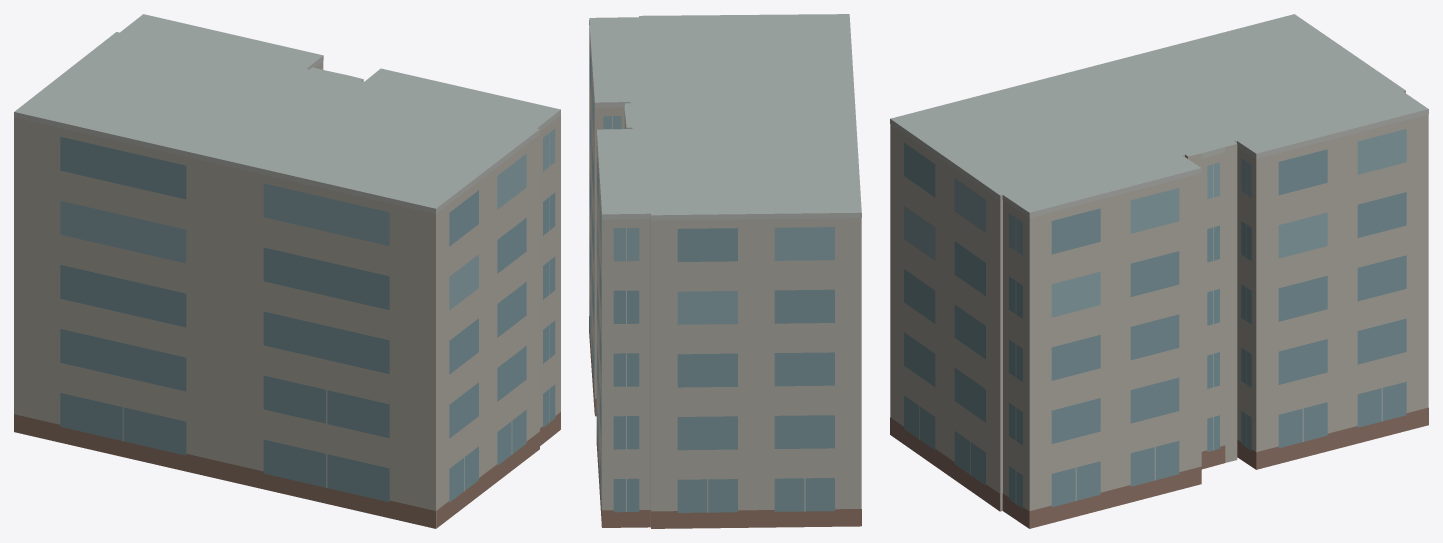
The model's file is survey-upis-32956446.glb.
3 renders of one model, left to right at view 1: azimuth 30°, elevation 25°; view 2: azimuth 150°, elevation 25°; view 3: azimuth 270°, elevation 25°, orthographic. The views are drawn at different scales.
Visible parts, largest first — view 1: survey-upis-32956446.tmp; view 2: survey-upis-32956446.tmp; view 3: survey-upis-32956446.tmp.
Part boxes in pixels (x1=…): survey-upis-32956446.tmp: x1=14, y1=14, x2=560, y2=528; survey-upis-32956446.tmp: x1=589, y1=14, x2=861, y2=528; survey-upis-32956446.tmp: x1=890, y1=14, x2=1428, y2=528.
Size of the model in its own units: 19.56 by 14.5 by 22.4.
